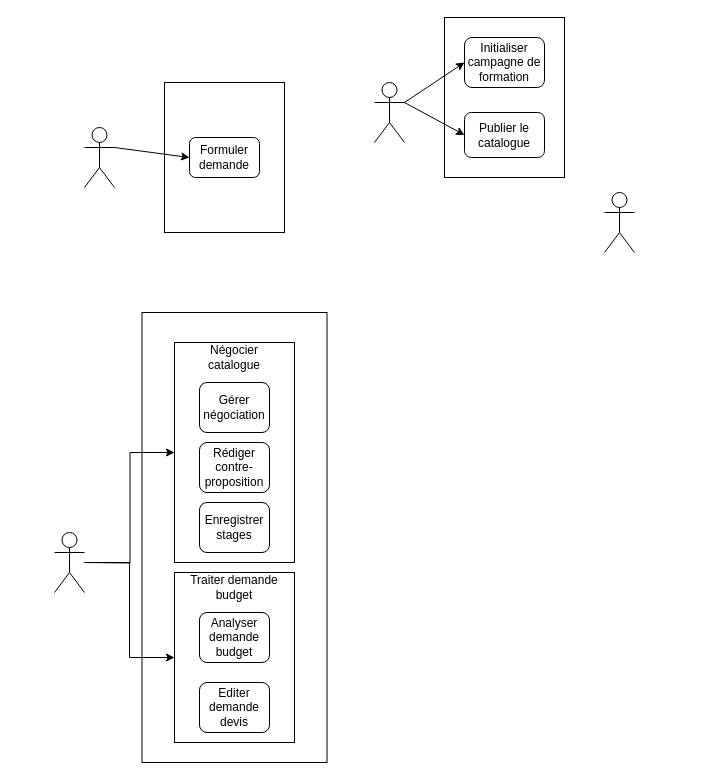
The diagram is 703 pixels wide and 780 high, and some of its shapes have lost their labels. The shapes that lost their labels are listed below. From the top down, each one's box as (x1, y1, x2, y2) in pixels, then its label:
(374, 82, 404, 142): RH
(84, 126, 114, 188): Représentant
(604, 192, 634, 252): Directeur communication
(54, 532, 84, 592): Directeur personnel
